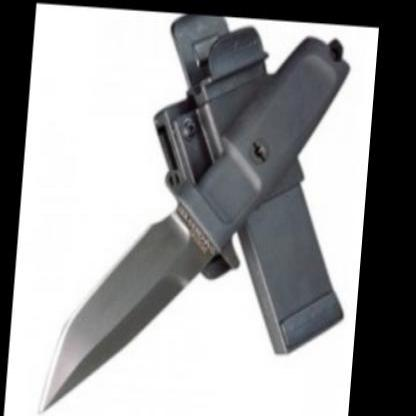knife: (42, 183, 232, 414)
